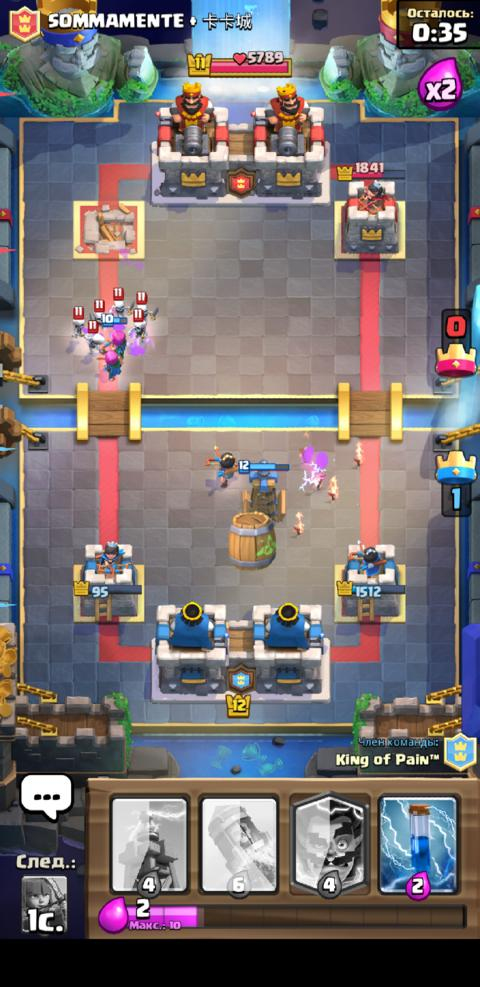EArcher: (99, 312, 126, 354), (94, 348, 123, 382)
EHog: (202, 443, 238, 490)
EKnight: (236, 456, 291, 524)
OEVElectroDrag: (125, 308, 149, 346), (106, 285, 135, 316), (131, 290, 159, 322), (85, 318, 103, 355), (68, 304, 85, 338), (87, 298, 104, 330)
